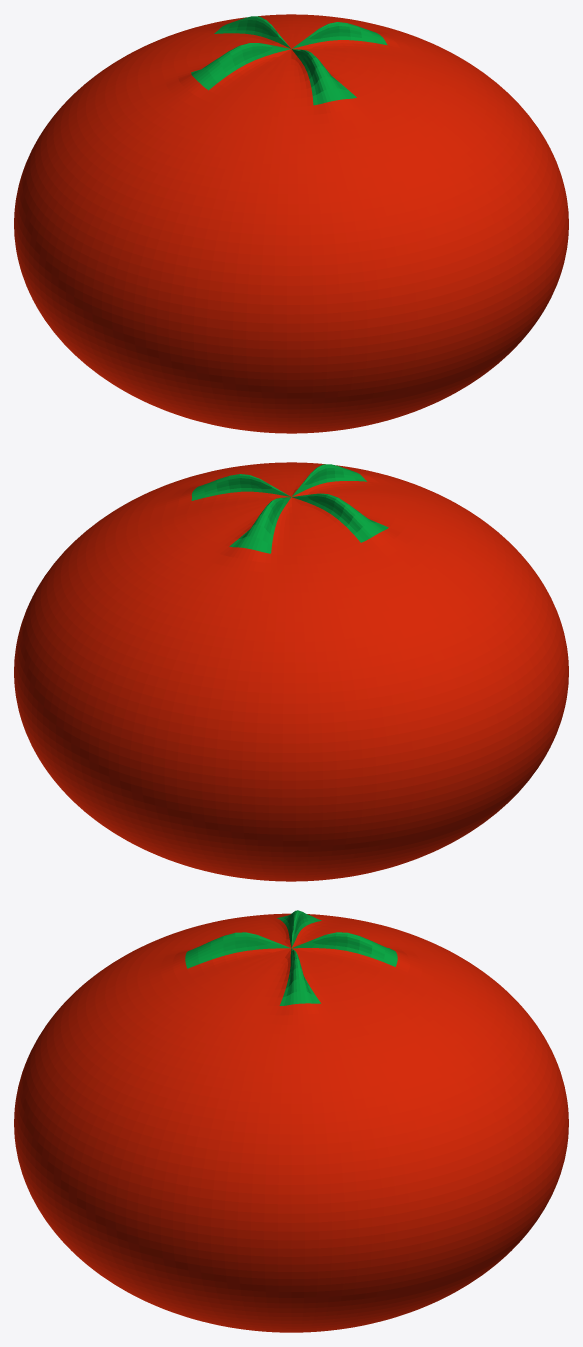
File: TomatoWhole.fbx
3 views of the same model, one above another, from view 1: azimuth 30°, elevation 25°; view 2: azimuth 150°, elevation 25°; view 3: azimuth 270°, elevation 25° (orthographic).
Visible parts, largest first — view 1: Sphere; view 2: Sphere; view 3: Sphere.
Boxes of the visible parts, x1,y1,x2,y2 form: Sphere: (14, 14, 568, 433); Sphere: (14, 462, 568, 881); Sphere: (14, 910, 568, 1332).
Size of the model in its own units: 198 by 143 by 198.
